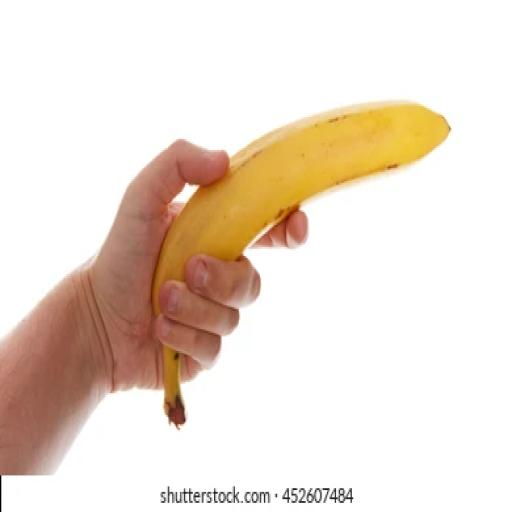banana: (153, 101, 450, 314)
